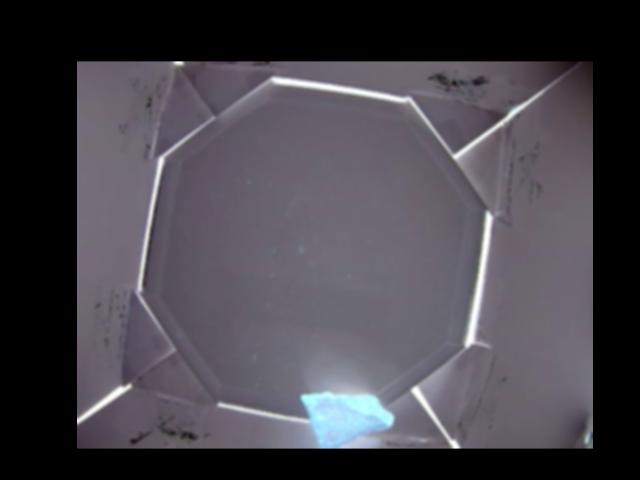Brisk: (299, 392, 394, 446)
